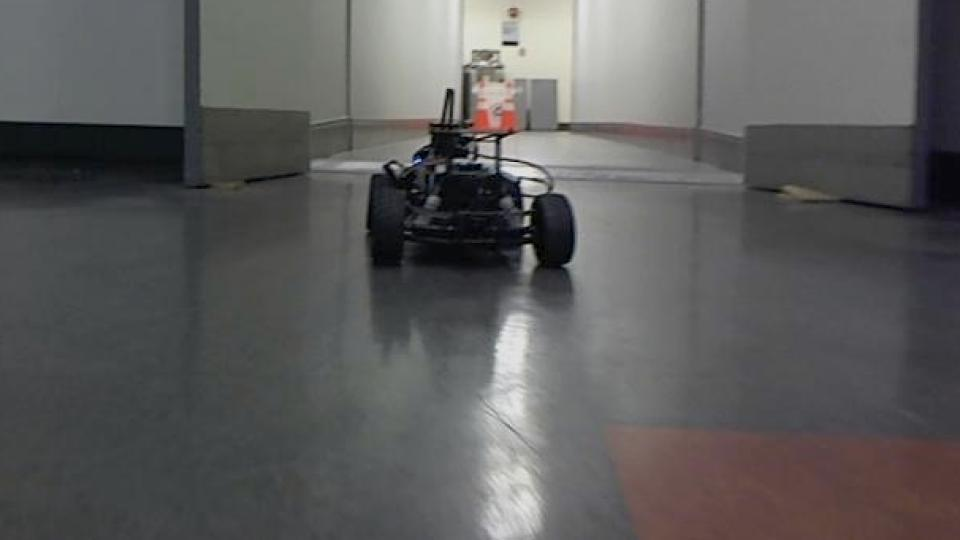car: (361, 86, 578, 273)
